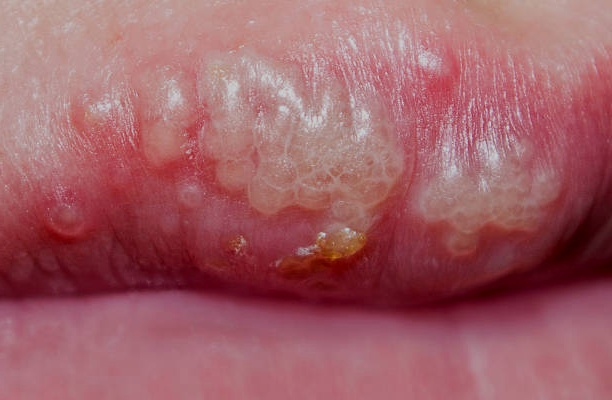Ulcer: (192, 47, 561, 271), (141, 62, 201, 168), (55, 187, 80, 240)
